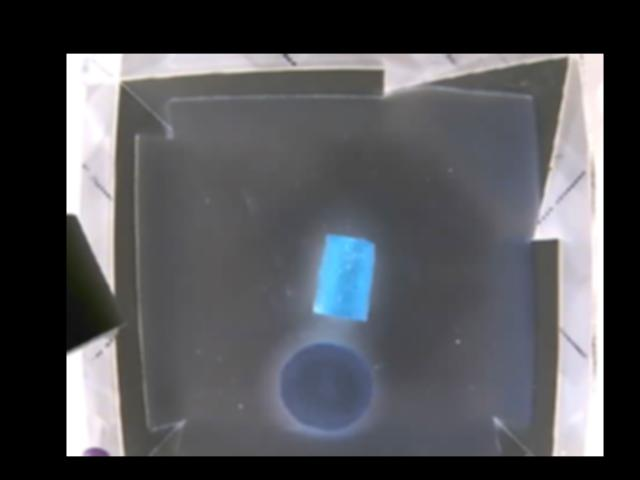Carrot: (313, 234, 376, 320)
China: (277, 342, 373, 430)
